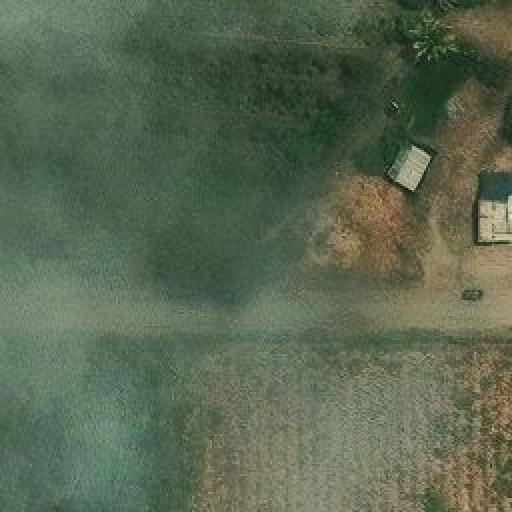manzanas: (376, 137, 440, 197), (473, 168, 510, 245)
